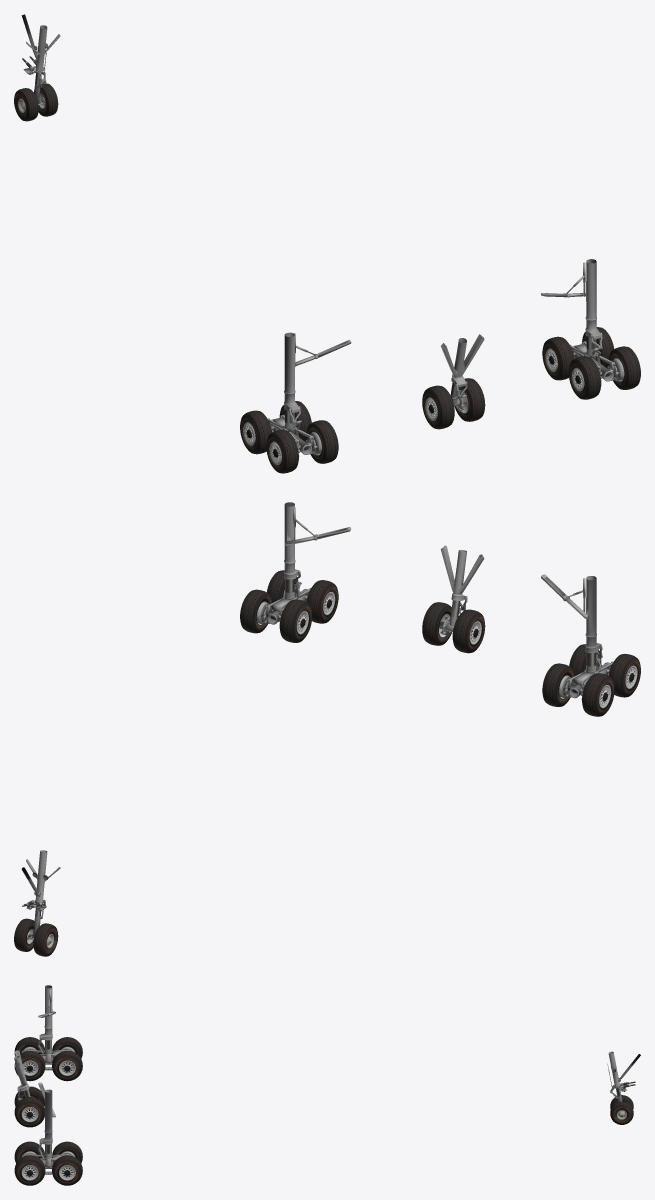
The picture shows the model from 3 angles, top to bottom: view 1: azimuth 30°, elevation 25°; view 2: azimuth 150°, elevation 25°; view 3: azimuth 270°, elevation 25°; orthographic projection. The views are drawn at different scales.
Visible parts, largest first — view 1: tyres.left.back, tyres.right.back, tyres.central, tyres.right.front, tyres.left.front, tyres, right.strut.up, left.strut.up, central.strut.up, right.strut.low2, left.strut.low2, front.strut.high; view 2: tyres.central, tyres.left.front, tyres.right.front, tyres.right.back, tyres.left.back, tyres, central.strut.up, left.strut.up, right.strut.up, left.strut.low2, right.strut.low2, front.strut.high; view 3: tyres.left.front, tyres.right.front, tyres.right.back, tyres.central, tyres.left.back, tyres, right.strut.up, left.strut.up, front.strut.high, right.strut.low2, left.strut.low2, central.strut.up.
Boxes of the visible parts, box(x1,y1,x2,y2) form: tyres.left.back: box(266, 420, 338, 473); tyres.right.back: box(568, 346, 640, 399); tyres.central: box(422, 378, 485, 429); tyres.right.front: box(542, 327, 613, 380); tyres.left.front: box(240, 401, 311, 454); tyres: box(14, 83, 58, 121); right.strut.up: box(583, 259, 601, 339); left.strut.up: box(284, 332, 299, 413); central.strut.up: box(440, 334, 484, 387); right.strut.low2: box(570, 340, 624, 381); left.strut.low2: box(268, 414, 321, 456); front.strut.high: box(22, 25, 60, 75); tyres.central: box(422, 602, 485, 653); tyres.left.front: box(542, 663, 614, 716); tyres.right.front: box(240, 589, 312, 642); tyres.right.back: box(267, 570, 338, 623); tyres.left.back: box(569, 644, 640, 697); tyres: box(14, 918, 58, 956); central.strut.up: box(440, 545, 484, 600); left.strut.up: box(583, 576, 600, 653); right.strut.up: box(284, 502, 299, 579); left.strut.low2: box(559, 658, 613, 700); right.strut.low2: box(256, 584, 310, 624); front.strut.high: box(22, 850, 60, 911); tyres.left.front: box(52, 1037, 82, 1081); tyres.right.front: box(52, 1141, 82, 1185); tyres.right.back: box(14, 1141, 45, 1185); tyres.central: box(14, 1086, 44, 1127); tyres.left.back: box(14, 1037, 45, 1081); tyres: box(610, 1095, 633, 1124); right.strut.up: box(39, 1089, 52, 1144); left.strut.up: box(39, 985, 52, 1040); front.strut.high: box(607, 1051, 635, 1091); right.strut.low2: box(22, 1151, 74, 1174); left.strut.low2: box(22, 1046, 74, 1070); central.strut.up: box(14, 1050, 29, 1091).
Bounding box in the file's own units: 12.59 × 4.1 × 26.91.
1 material, 1 textured.
